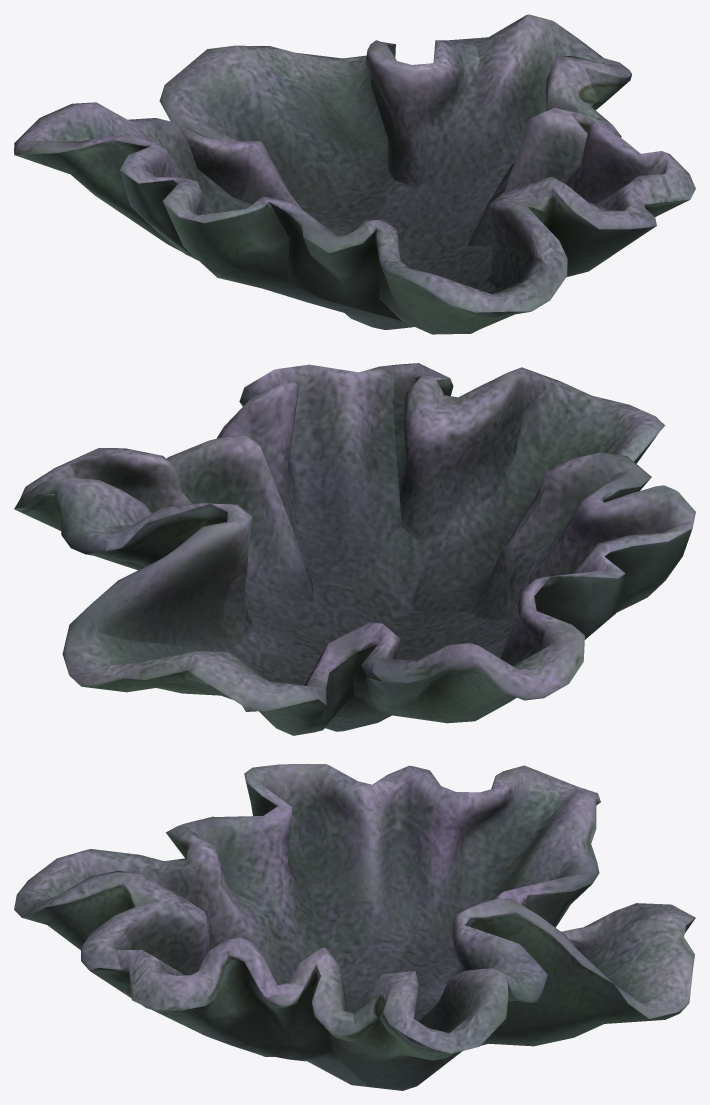
The model's file is Coral07.fbx.
3 views of the same model, one above another, from view 1: azimuth 30°, elevation 25°; view 2: azimuth 150°, elevation 25°; view 3: azimuth 270°, elevation 25° (orthographic). The views are drawn at different scales.
Visible parts, largest first — view 1: Coral9_1; view 2: Coral9_1; view 3: Coral9_1.
Part boxes in pixels (box(x1,y1,x2,y2)): Coral9_1: box(14, 14, 695, 334); Coral9_1: box(14, 363, 695, 735); Coral9_1: box(14, 764, 695, 1090).
Bounding box in the file's own units: 120 × 45.29 × 132.
